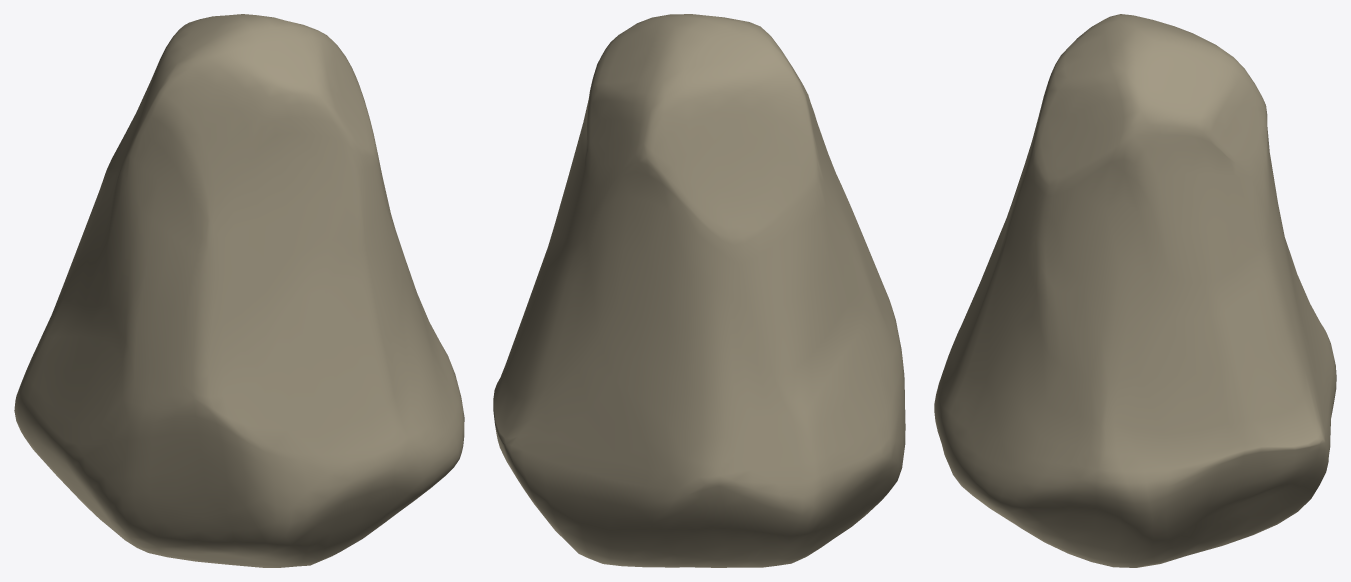
File: environment_rock_2.glb
The picture shows the model from 3 angles, left to right: view 1: azimuth 30°, elevation 25°; view 2: azimuth 150°, elevation 25°; view 3: azimuth 270°, elevation 25°; orthographic projection. The views are drawn at different scales.
Parts seen in each view (by area): view 1: Environment_Rock_2; view 2: Environment_Rock_2; view 3: Environment_Rock_2.
Boxes of the visible parts, bbox=[...] form: Environment_Rock_2: bbox=[14, 14, 464, 567]; Environment_Rock_2: bbox=[493, 14, 905, 567]; Environment_Rock_2: bbox=[934, 14, 1336, 567].
Size of the model in its own units: 0.7832 by 1.05 by 0.7585.
1 material, 1 textured.
